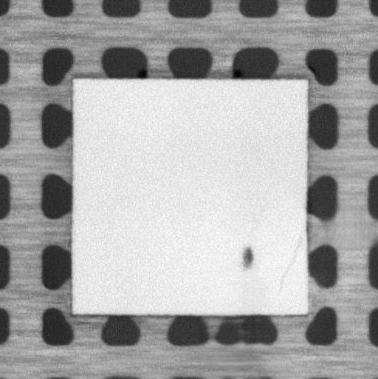DIE_CRACK: (276, 238, 303, 295)
